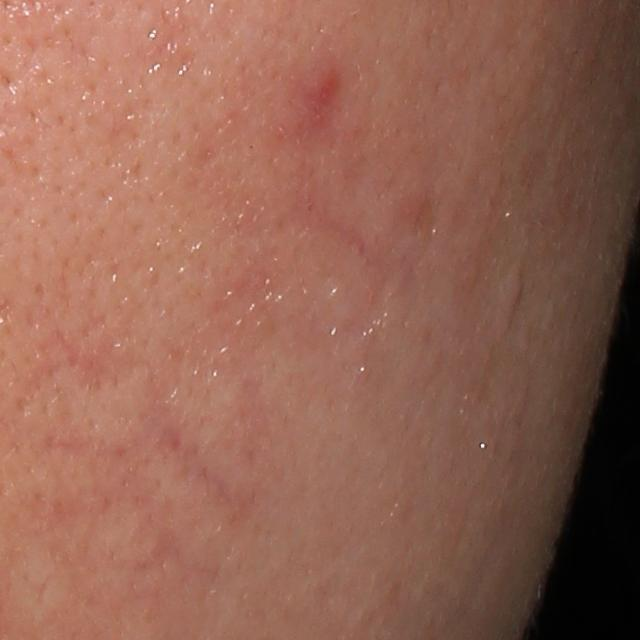papule: (308, 60, 345, 109)
